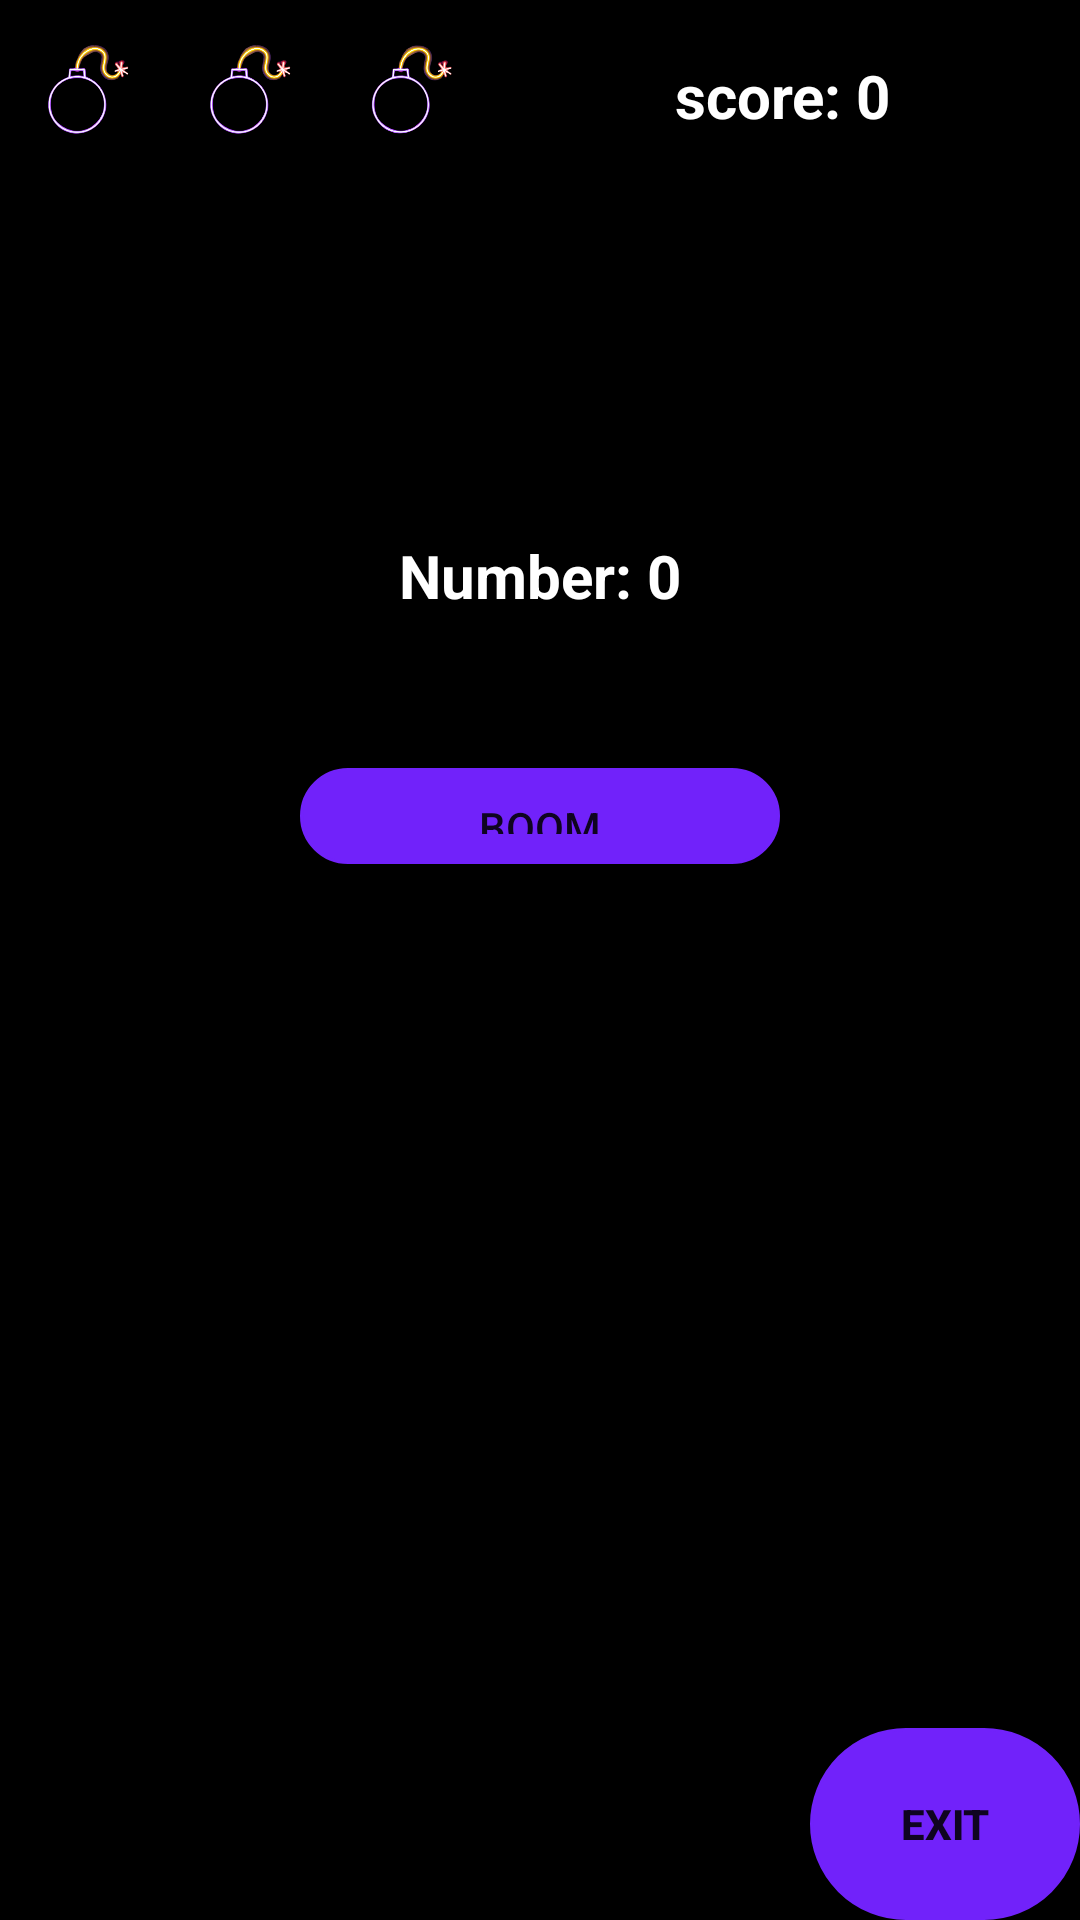

Screen size 1080w x 1920h. Icon name, then its box in pixels as BBox(x1, y1, x2, y2):
bomb neon: BBox(48, 45, 128, 134), BBox(210, 45, 290, 134), BBox(372, 45, 452, 134)
